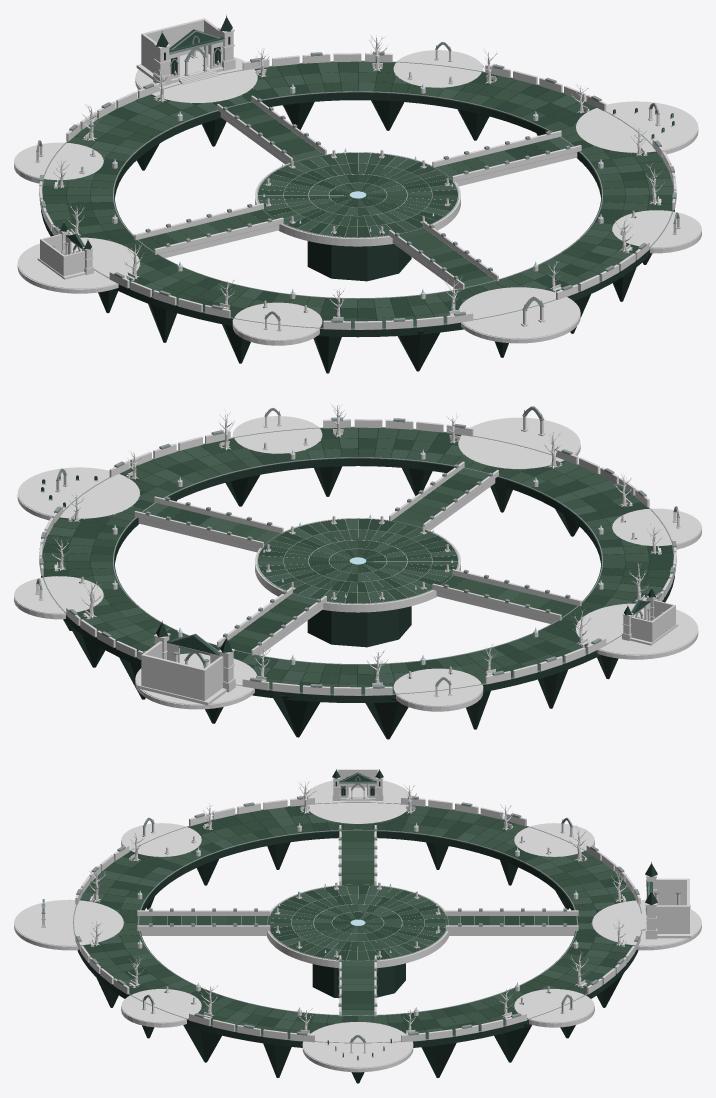
File: MoonlitSanctuary_Game_v01.glb
3 renders of one model, top to bottom at view 1: azimuth 30°, elevation 25°; view 2: azimuth 150°, elevation 25°; view 3: azimuth 270°, elevation 25°, orthographic. The views are drawn at different scales.
Parts seen in each view (by area): view 1: COL_Walkable_MoonlitGround, COL_MoonlitBlockers, Doorways_MS_Stone_shadow, Doorways_MS_Paving_02, Doorways_MS_Paving_00, Doorways_MS_Paving_04, Doorways_MS_Paving_03, Doorways_MS_Paving_01, Doorways_MS_Stone_pale_trim, Doorways_MS_Stone_slate; view 2: COL_Walkable_MoonlitGround, COL_MoonlitBlockers, Doorways_MS_Stone_shadow, Doorways_MS_Paving_02, Doorways_MS_Paving_00, Doorways_MS_Paving_04, Doorways_MS_Paving_03, Doorways_MS_Paving_01, Doorways_MS_Stone_pale_trim, Doorways_MS_Stone_slate; view 3: COL_Walkable_MoonlitGround, COL_MoonlitBlockers, Doorways_MS_Stone_shadow, Doorways_MS_Paving_02, Doorways_MS_Paving_00, Doorways_MS_Paving_04, Doorways_MS_Paving_03, Doorways_MS_Paving_01, Doorways_MS_Stone_pale_trim.
Part boxes in pixels (x1,y1,x2,y2): COL_Walkable_MoonlitGround: (14,50,701,345); COL_MoonlitBlockers: (35,18,680,331); Doorways_MS_Stone_shadow: (41,17,674,373); Doorways_MS_Paving_02: (43,72,648,328); Doorways_MS_Paving_00: (42,61,672,321); Doorways_MS_Paving_04: (67,63,646,327); Doorways_MS_Paving_03: (74,61,673,328); Doorways_MS_Paving_01: (67,66,670,313); Doorways_MS_Stone_pale_trim: (36,15,679,329); Doorways_MS_Stone_slate: (65,29,674,312); COL_Walkable_MoonlitGround: (14,416,701,711); COL_MoonlitBlockers: (35,404,680,701); Doorways_MS_Stone_shadow: (41,428,674,739); Doorways_MS_Paving_02: (67,427,648,694); Doorways_MS_Paving_00: (45,435,670,684); Doorways_MS_Paving_04: (42,428,673,692); Doorways_MS_Paving_03: (48,427,663,687); Doorways_MS_Paving_01: (42,451,637,694); Doorways_MS_Stone_pale_trim: (36,406,679,695); Doorways_MS_Stone_slate: (41,475,650,678); COL_Walkable_MoonlitGround: (14,780,701,1072); COL_MoonlitBlockers: (41,769,689,1060); Doorways_MS_Stone_shadow: (77,770,657,1083); Doorways_MS_Paving_02: (80,805,618,1030); Doorways_MS_Paving_00: (82,805,633,1035); Doorways_MS_Paving_04: (83,805,635,1033); Doorways_MS_Paving_03: (80,807,631,1033); Doorways_MS_Paving_01: (102,814,635,1038); Doorways_MS_Stone_pale_trim: (41,769,680,1043).
Bounding box in the file's own units: 186 × 31.32 × 186.
